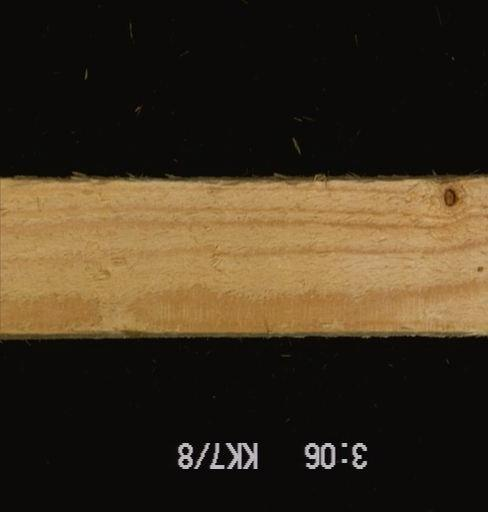dry_knot: (435, 184, 460, 208)
